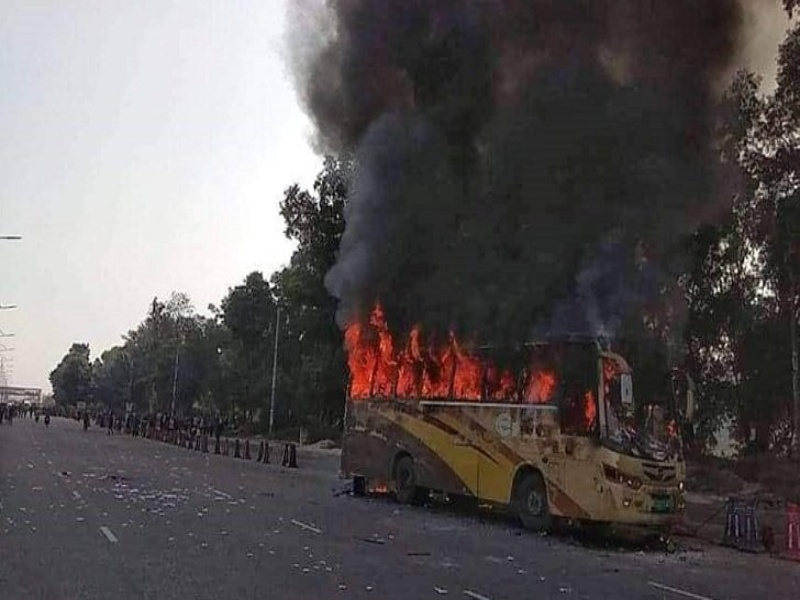smoke: (344, 1, 690, 339)
